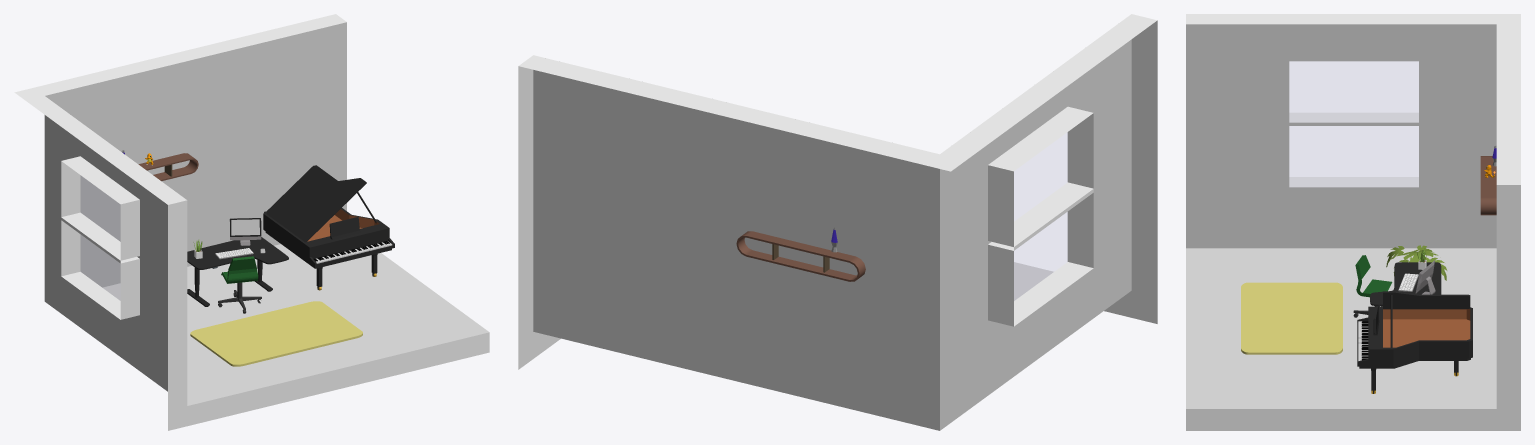
File: testScene2.gltf
3 renders of one model, left to right at view 1: azimuth 30°, elevation 25°; view 2: azimuth 150°, elevation 25°; view 3: azimuth 270°, elevation 25°, orthographic. The views are drawn at different scales.
Visible parts, largest first — view 1: Plane, Cube.002, WawaRug, Desk, Chair, SM_Shelf:SM_Shelf1, iMac; view 2: Plane, SM_Shelf:SM_Shelf1; view 3: Plane, Cube.002, WawaRug, Desk, SM_Shelf:SM_Shelf1, Chair, Houseplant_7, iMac.
Boxes of the visible parts, left/top/right/bottom form: Plane: left=14, top=14, right=489, bottom=430; Cube.002: left=263, top=165, right=394, bottom=290; WawaRug: left=190, top=301, right=362, bottom=366; Desk: left=187, top=237, right=288, bottom=306; Chair: left=218, top=256, right=261, bottom=313; SM_Shelf:SM_Shelf1: left=138, top=153, right=198, bottom=181; iMac: left=229, top=218, right=261, bottom=245; Plane: left=518, top=14, right=1157, bottom=430; SM_Shelf:SM_Shelf1: left=736, top=231, right=865, bottom=281; Plane: left=1186, top=14, right=1520, bottom=430; Cube.002: left=1357, top=291, right=1472, bottom=393; WawaRug: left=1241, top=282, right=1342, bottom=354; Desk: left=1370, top=262, right=1441, bottom=305; SM_Shelf:SM_Shelf1: left=1480, top=156, right=1496, bottom=215; Chair: left=1353, top=255, right=1392, bottom=317; Houseplant_7: left=1386, top=245, right=1447, bottom=280; iMac: left=1415, top=260, right=1435, bottom=294.
Size of the model in its own units: 8.04 by 5.4 by 6.65.
